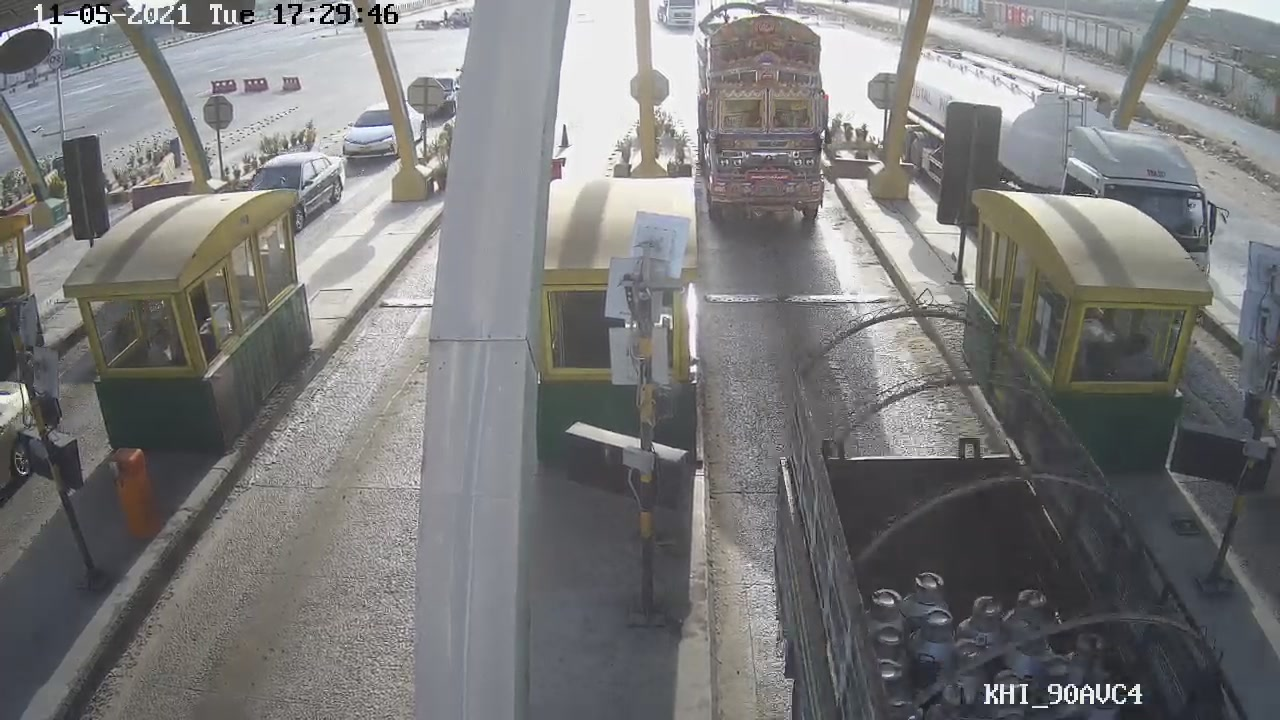F6: (693, 1, 854, 240)
